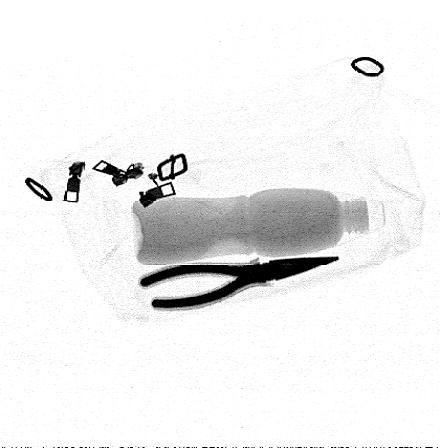Pliers: (139, 256, 343, 308)
